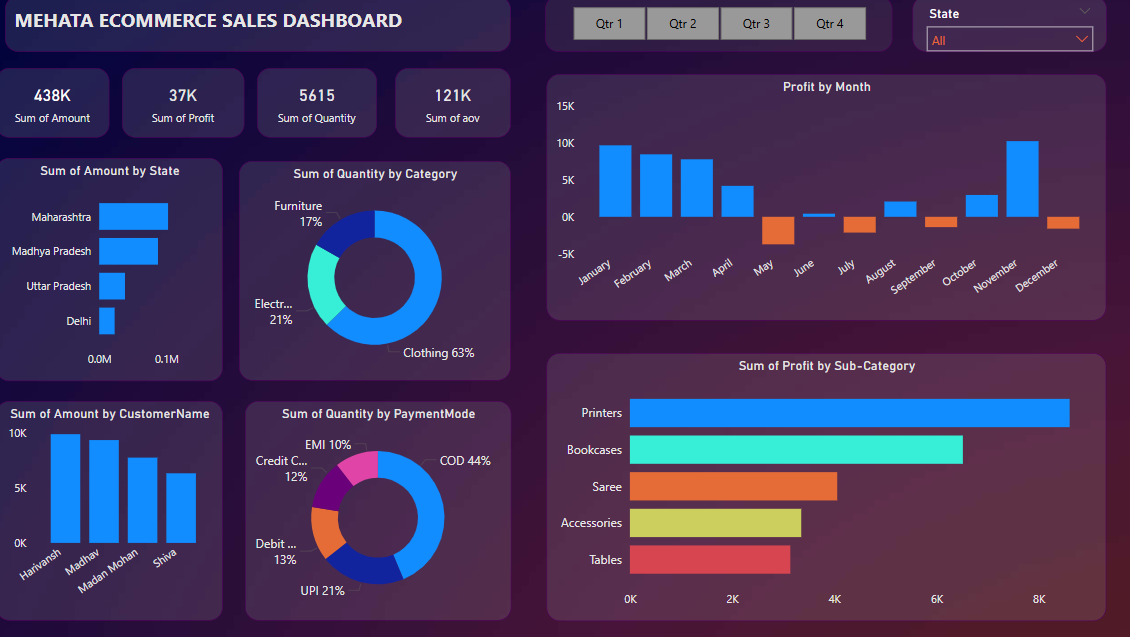

What the dashboard file says about the page in this screenshot:
{"tool":"powerbi","page":{"name":"Page 1","canvas":[1280,720],"ordinal":0},"visuals":[{"type":"textbox","box":[10,0,562,62],"z":0},{"type":"columnChart","title":"Profit by Month","fields":{"Y":["Details.Profit"],"Category":["Orders.Order Date.Variation.Date Hierarchy.Month"]},"box":[612,86,622,274],"z":1000},{"type":"barChart","fields":{"Category":["Details.Sub-Category"],"Y":["Details.Profit"]},"box":[612,396,622,298],"z":2000},{"type":"donutChart","fields":{"Category":["Details.Category"],"Y":["Details.Quantity"]},"box":[270,184,302,244],"z":3000},{"type":"donutChart","fields":{"Y":["Details.Quantity"],"Category":["Details.PaymentMode"]},"box":[276,450,296,244],"z":4000},{"type":"card","fields":{"Values":["Details.Amount"]},"box":[0,80.3,125.7,77.2],"z":5000},{"type":"card","fields":{"Values":["Details.Quantity"]},"box":[290.7,80.3,133.3,77.2],"z":6000},{"type":"card","fields":{"Values":["Details.Profit"]},"box":[139.3,80.3,136.3,77.2],"z":7000},{"type":"card","fields":{"Values":["Details.aov"]},"box":[443.7,80.3,128.7,77.2],"z":8000},{"type":"barChart","fields":{"Category":["Orders.State"],"Y":["Details.Amount"]},"box":[0,180,252,248],"z":9000},{"type":"columnChart","fields":{"Category":["Orders.CustomerName"],"Y":["Details.Amount"]},"box":[0,450,252,244],"z":10000},{"type":"slicer","fields":{"Values":["Orders.Order Date.Variation.Date Hierarchy.Quarter"]},"box":[610,0,386,62],"z":11000},{"type":"slicer","fields":{"Values":["Orders.State"]},"box":[1018,0,216,62],"z":12000}]}

Visuals, with their boxes in screenshot pixels (x1, y1, x2, y2), scaled from the page's 1280x720 canvas onto the 1130x637 screenshot:
textbox: Rect(9, 0, 505, 55)
"Profit by Month" columnChart: Rect(540, 76, 1089, 318)
barChart - Details.Sub-Category x Details.Profit: Rect(540, 350, 1089, 614)
donutChart - Details.Category x Details.Quantity: Rect(238, 163, 505, 379)
donutChart - Details.Quantity x Details.PaymentMode: Rect(244, 398, 505, 614)
card - Details.Amount: Rect(0, 71, 111, 139)
card - Details.Quantity: Rect(257, 71, 374, 139)
card - Details.Profit: Rect(123, 71, 243, 139)
card - Details.aov: Rect(392, 71, 505, 139)
barChart - Orders.State x Details.Amount: Rect(0, 159, 222, 379)
columnChart - Orders.CustomerName x Details.Amount: Rect(0, 398, 222, 614)
slicer - Orders.Order Date.Variation.Date Hierarchy.Quarter: Rect(539, 0, 879, 55)
slicer - Orders.State: Rect(899, 0, 1089, 55)
